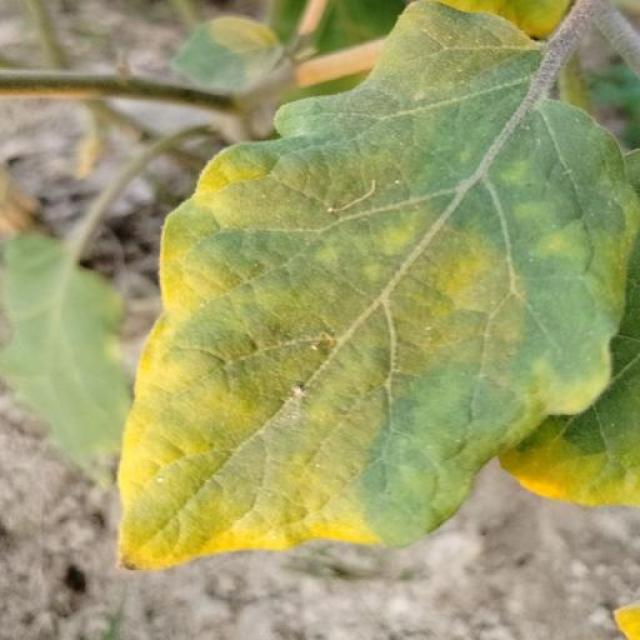leaf_spot: (123, 290, 331, 573), (224, 110, 432, 299), (339, 188, 533, 367), (300, 377, 421, 578), (468, 416, 640, 538), (515, 164, 640, 316), (137, 201, 271, 307), (401, 0, 591, 45), (183, 139, 288, 202), (208, 22, 286, 71), (600, 598, 640, 640)
